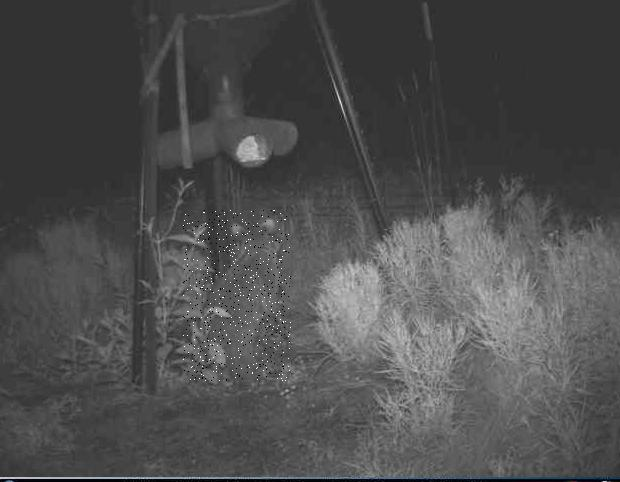Raccoon: (183, 211, 291, 382)
